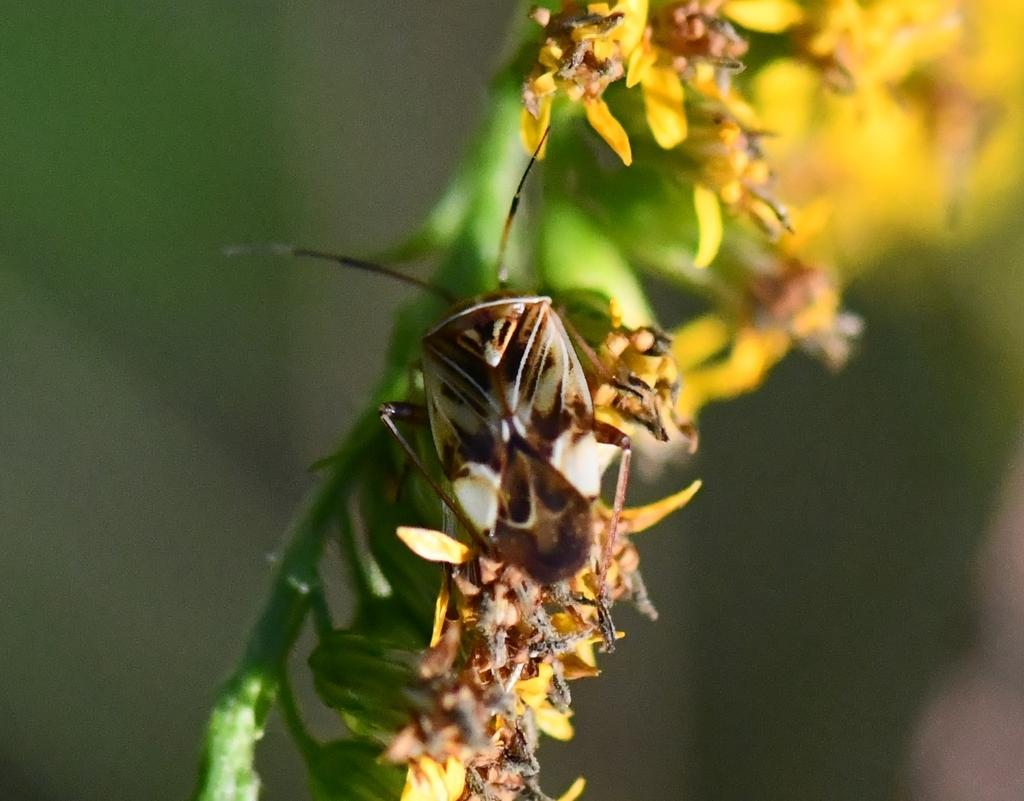plant_bugs: (198, 112, 735, 627)
